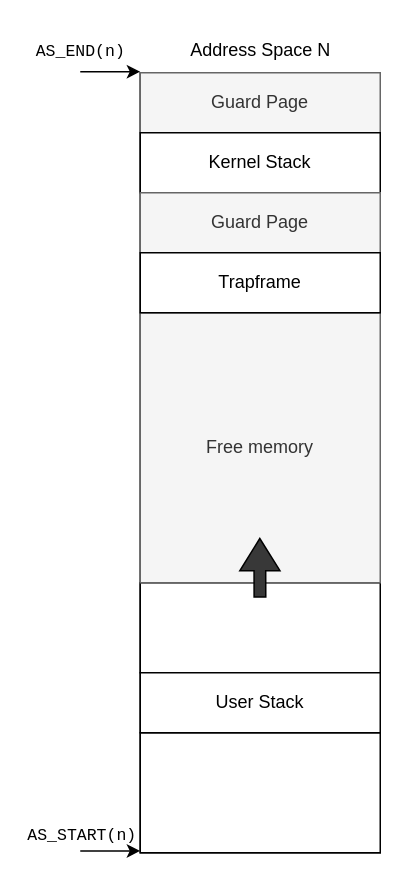
This 407x890 diagram has some shape labels left out. Here are the shapes that lost their labels. From the top down, the centre of each, then its label:
At point (259, 627): "User Heap".
At point (259, 792): "Process data + text".
